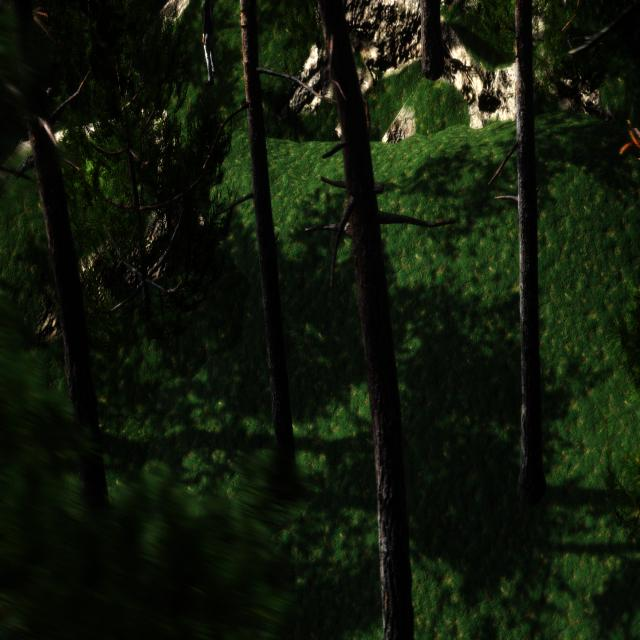Human: (199, 0, 217, 95)
